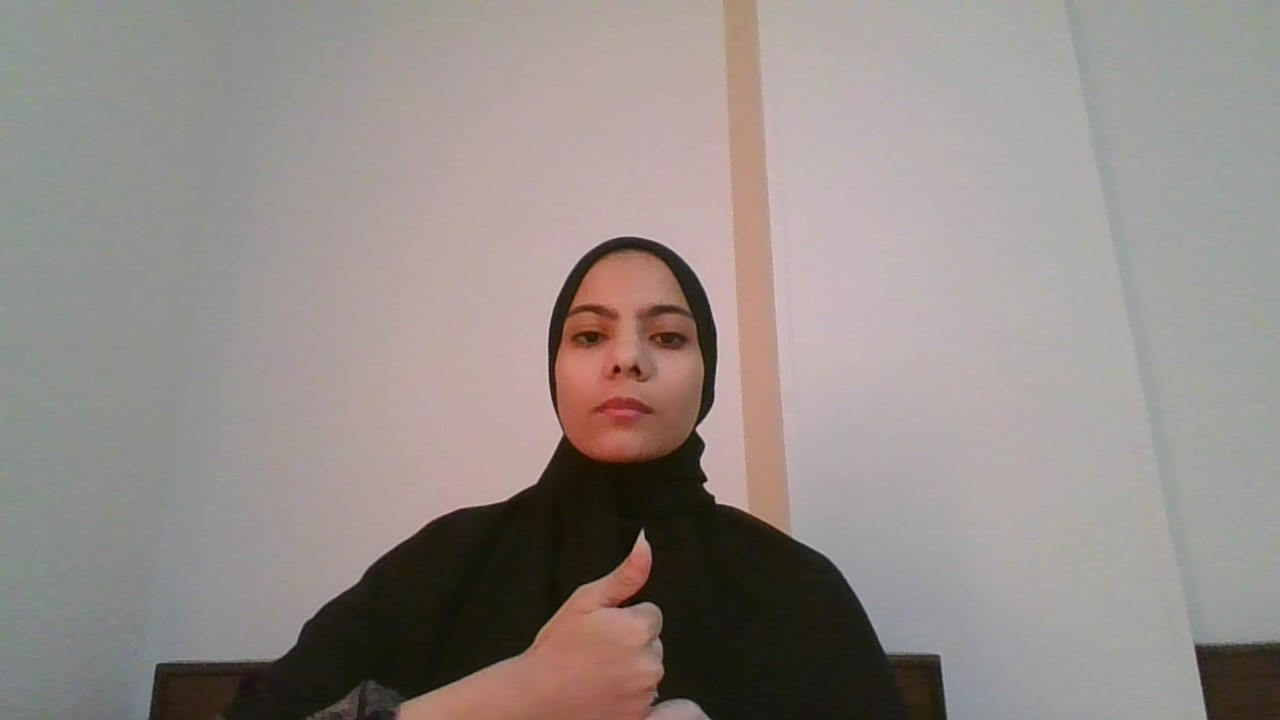help: (499, 523, 687, 720)
